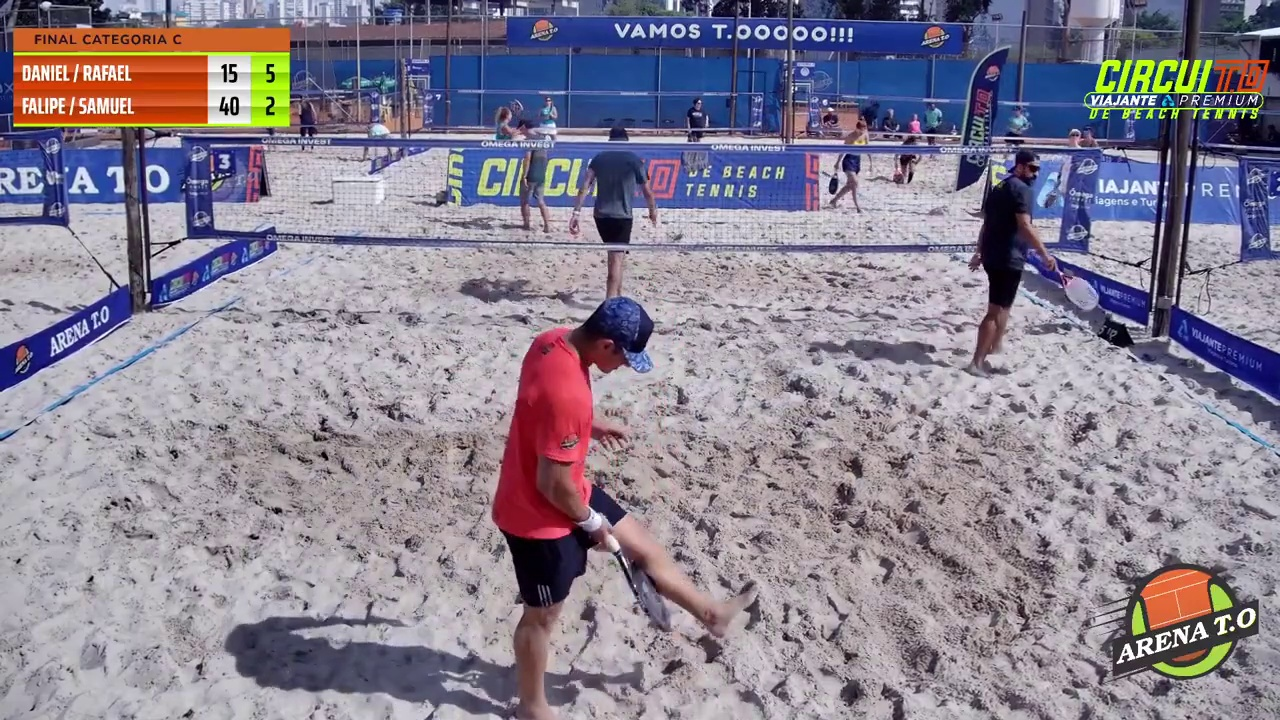court_line: (643, 0, 805, 451)
